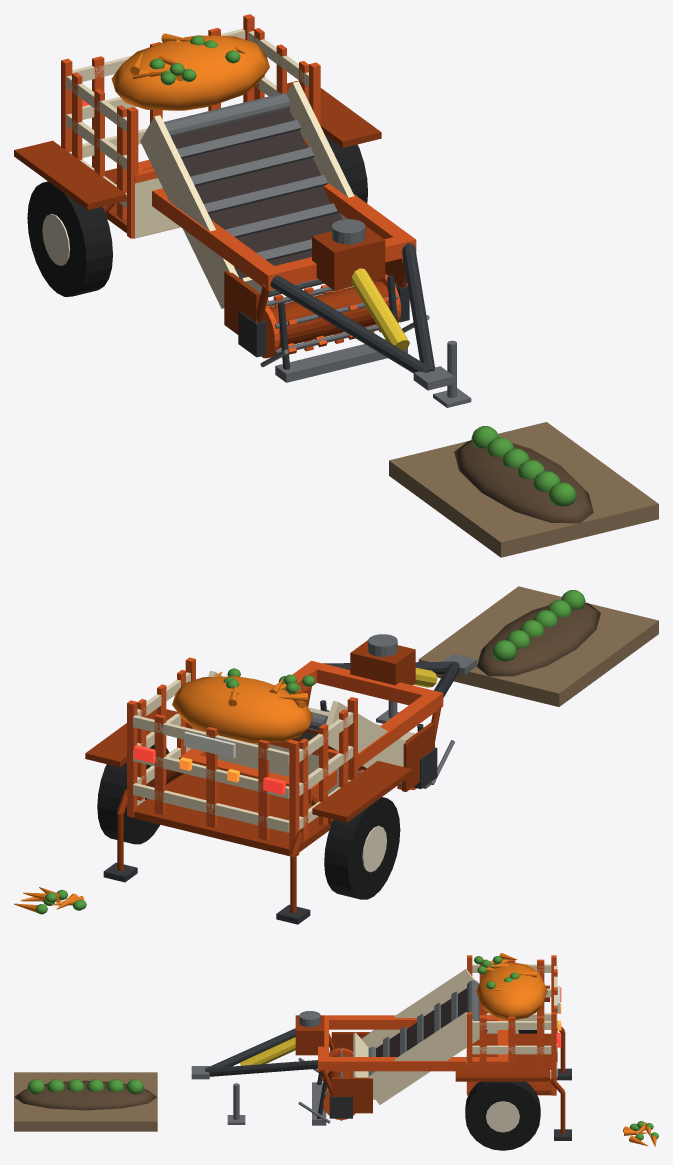
The model's file is carrot_harvester.glb.
3 renders of one model, top to bottom at view 1: azimuth 30°, elevation 25°; view 2: azimuth 150°, elevation 25°; view 3: azimuth 270°, elevation 25°, orthographic. The views are drawn at different scales.
Visible parts, largest first — view 1: CarrotBody, CarrotProps, CarrotPickup; view 2: CarrotBody, CarrotProps; view 3: CarrotBody, CarrotProps, CarrotPickup.
Part boxes in pixels (bbox=[...]): CarrotBody: bbox=[14, 14, 471, 407]; CarrotProps: bbox=[389, 422, 658, 557]; CarrotPickup: bbox=[261, 274, 401, 358]; CarrotBody: bbox=[85, 634, 476, 924]; CarrotProps: bbox=[14, 586, 658, 914]; CarrotBody: bbox=[191, 953, 571, 1150]; CarrotProps: bbox=[14, 1072, 658, 1146]; CarrotPickup: bbox=[322, 1047, 355, 1120].
Size of the model in its own units: 2.42 by 1.68 by 7.19.
